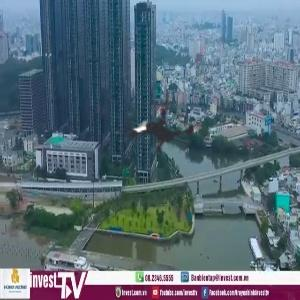drone: (91, 61, 225, 195)
